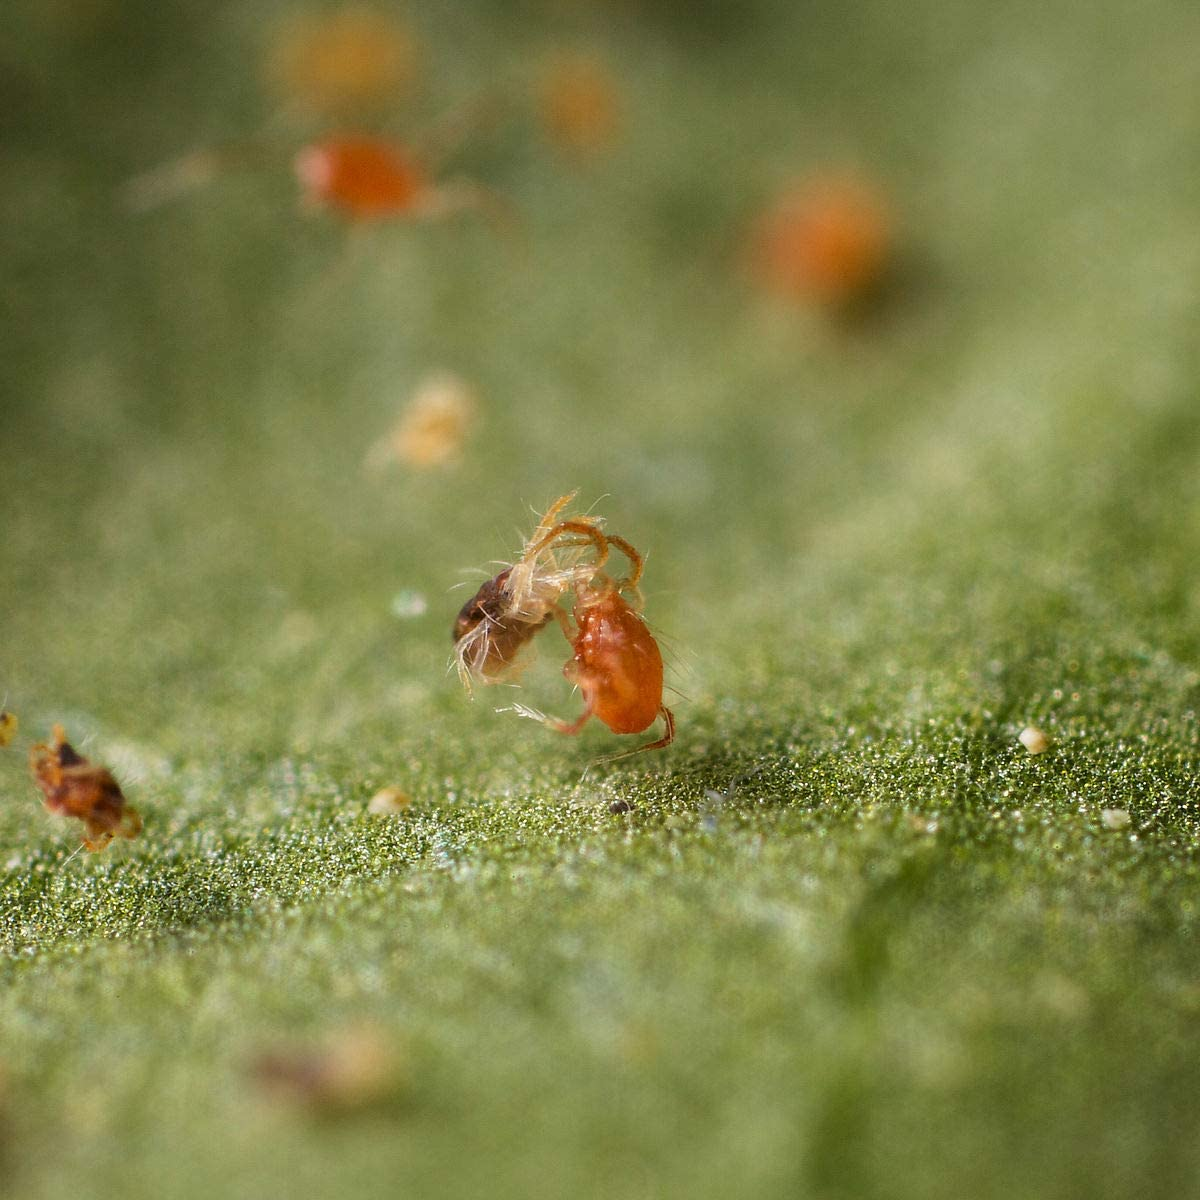Mites: (426, 485, 552, 707), (555, 547, 675, 774)
